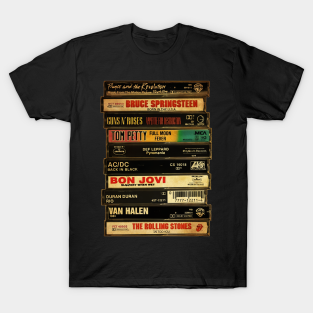design: (99, 77, 215, 238)
